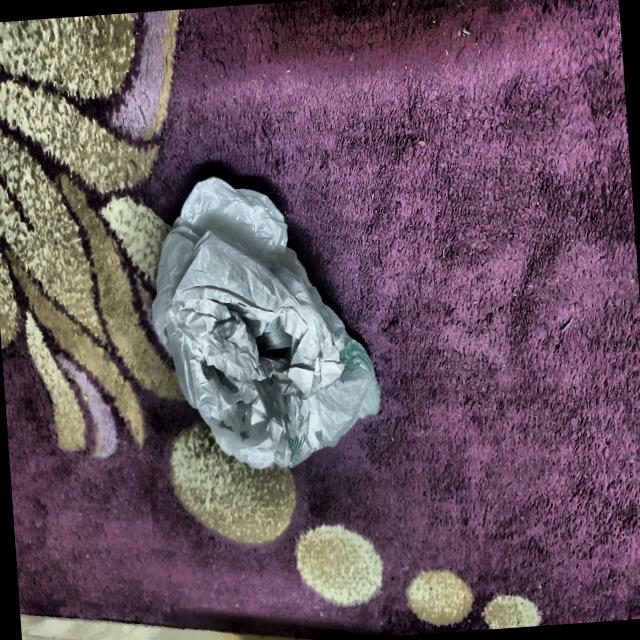plastic bag: (132, 148, 394, 484)
